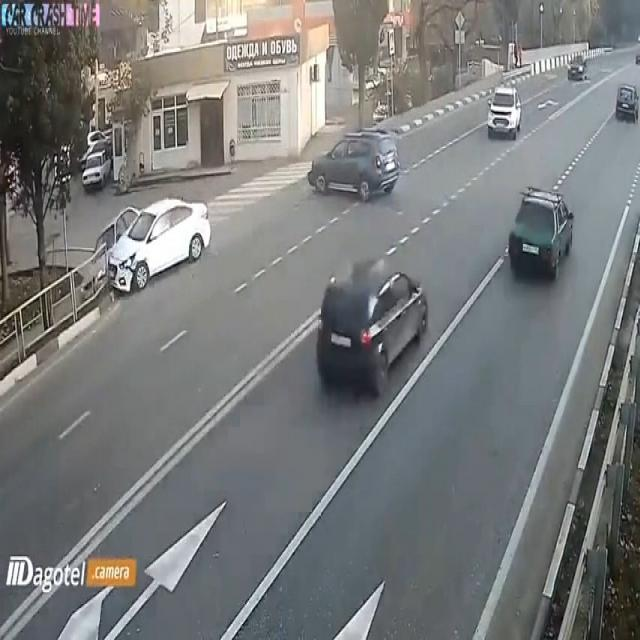Accident: (91, 191, 202, 298)
